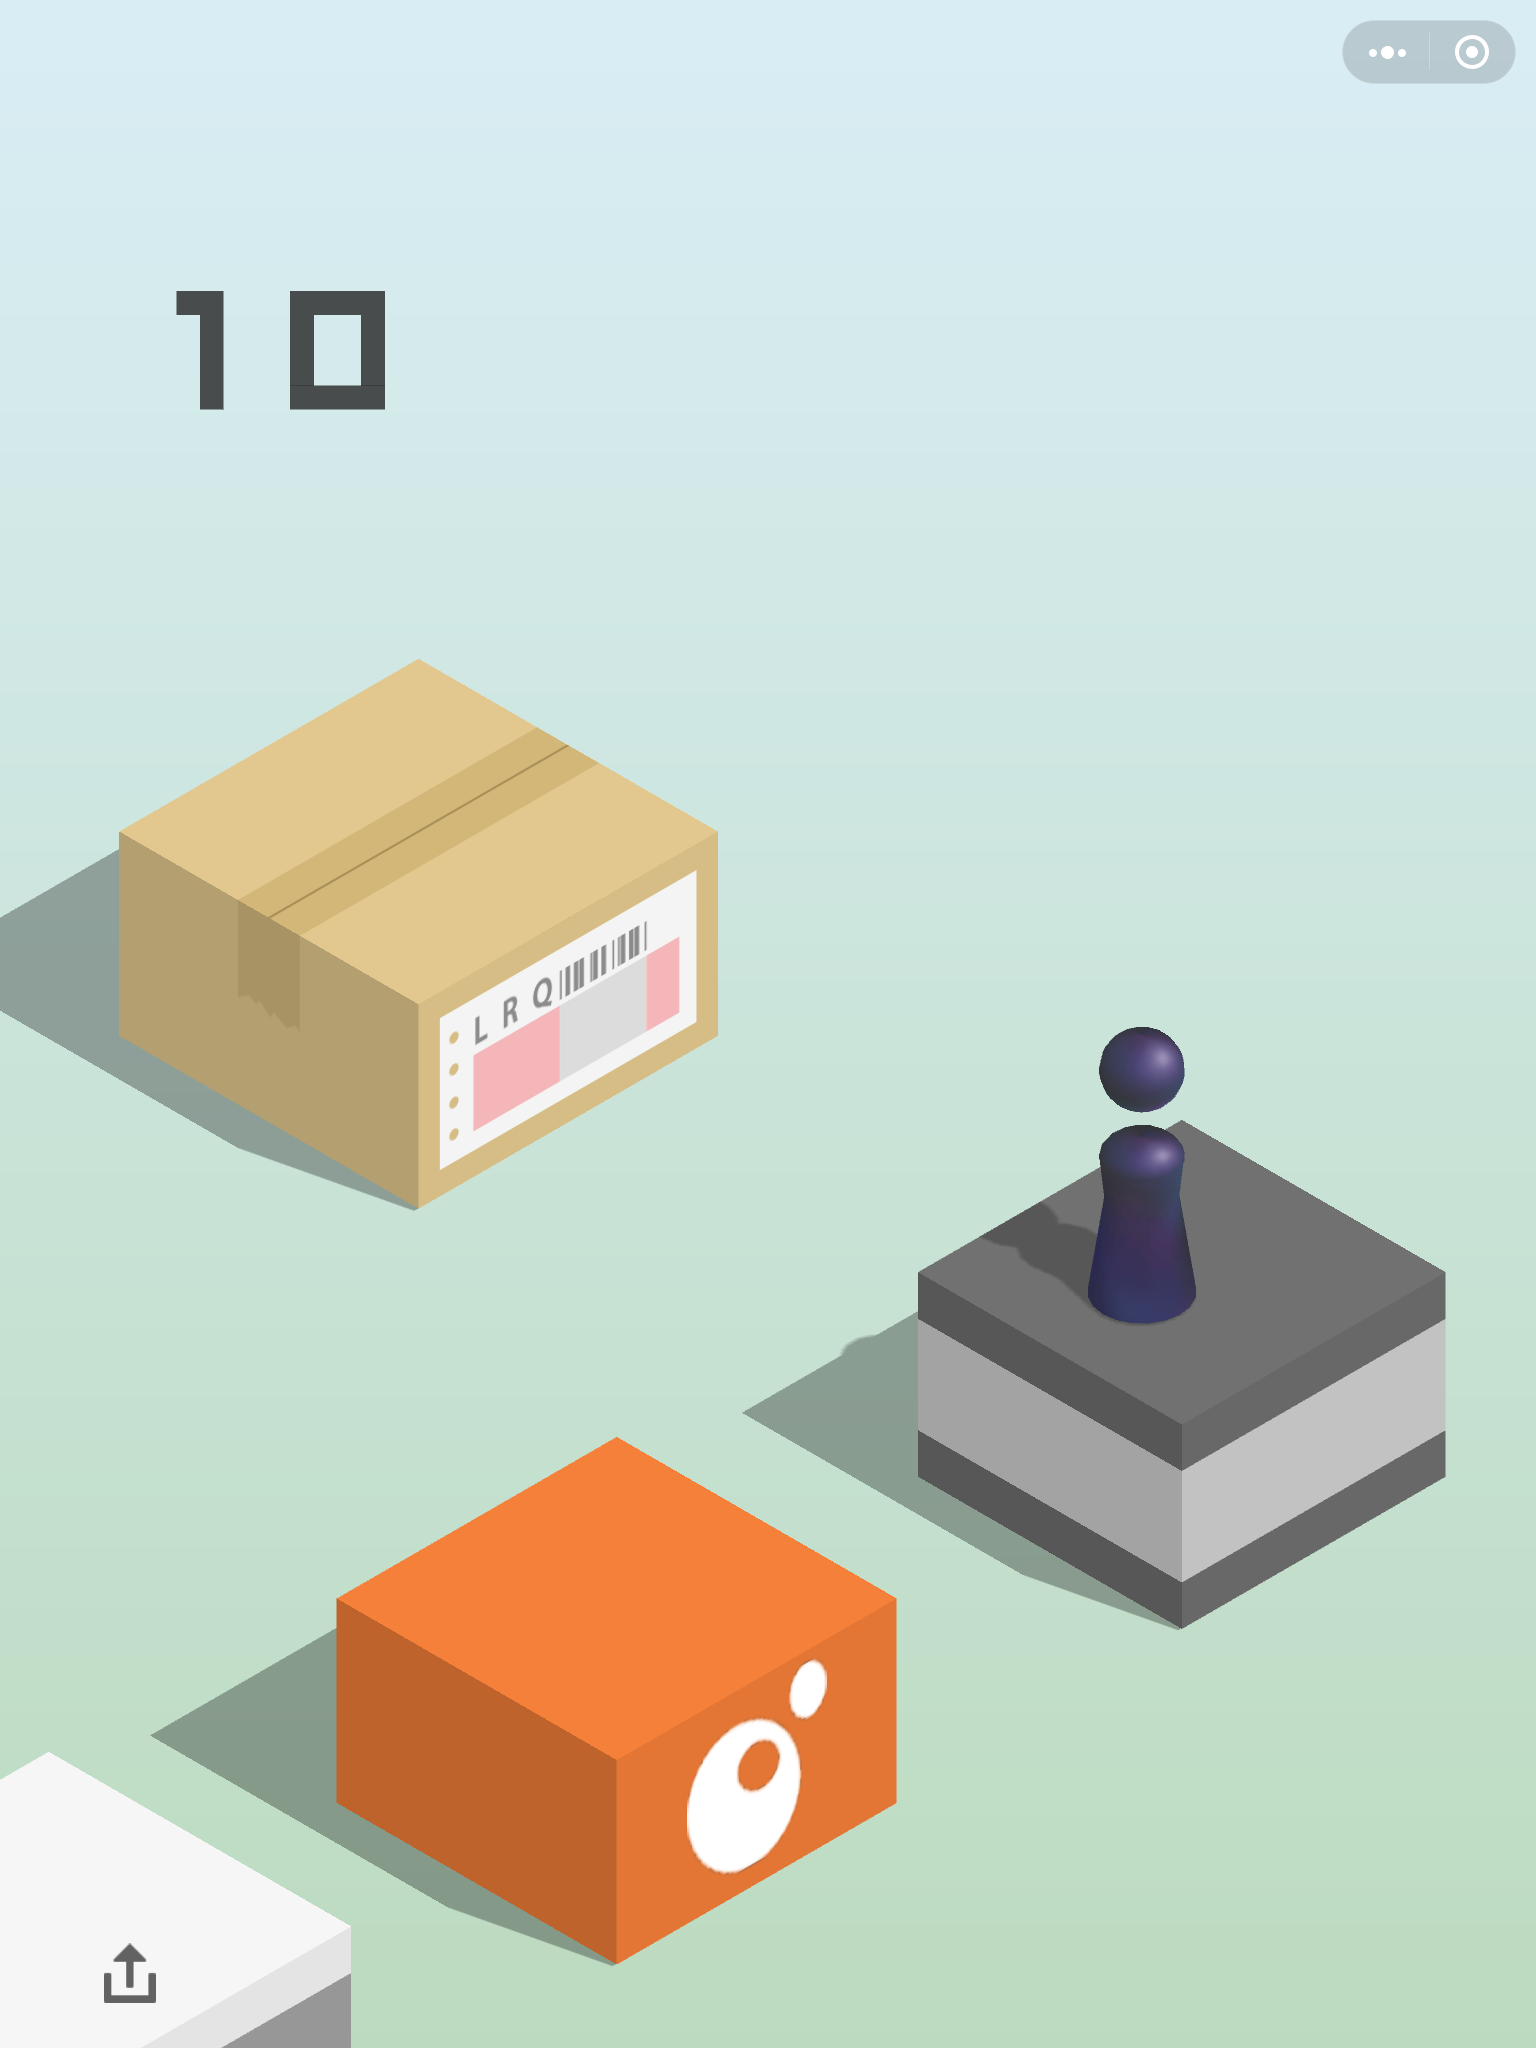f: (111, 655, 724, 1219), (324, 1430, 908, 1980), (908, 1111, 1450, 1642), (2, 1746, 360, 2046)
r: (1083, 1019, 1204, 1329)
